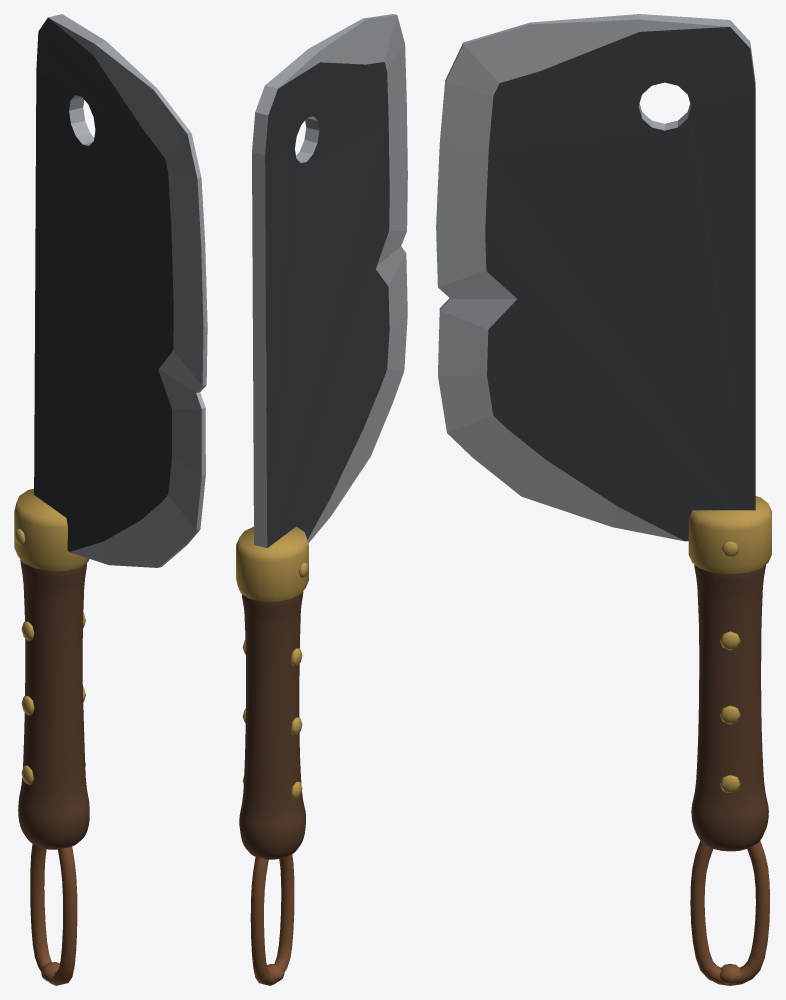
Rendered from tool_cleaver.fbx.
The picture shows the model from 3 angles, left to right: view 1: azimuth 30°, elevation 25°; view 2: azimuth 150°, elevation 25°; view 3: azimuth 270°, elevation 25°; orthographic projection. The views are drawn at different scales.
Parts seen in each view (by area): view 1: Tool_Cleaver_Blade, Tool_Cleaver_Handle, Tool_Cleaver_Bolster, Tool_Cleaver_Thong; view 2: Tool_Cleaver_Blade, Tool_Cleaver_Handle, Tool_Cleaver_Bolster, Tool_Cleaver_Thong; view 3: Tool_Cleaver_Blade, Tool_Cleaver_Handle, Tool_Cleaver_Bolster, Tool_Cleaver_Thong.
Boxes of the visible parts, <box> form: Tool_Cleaver_Blade: <box>34,14,207,567</box>; Tool_Cleaver_Handle: <box>18,559,89,849</box>; Tool_Cleaver_Bolster: <box>14,488,89,784</box>; Tool_Cleaver_Thong: <box>30,844,77,985</box>; Tool_Cleaver_Blade: <box>252,14,407,547</box>; Tool_Cleaver_Handle: <box>239,591,305,859</box>; Tool_Cleaver_Bolster: <box>236,526,308,799</box>; Tool_Cleaver_Thong: <box>250,854,294,985</box>; Tool_Cleaver_Blade: <box>436,14,755,541</box>; Tool_Cleaver_Handle: <box>691,564,768,851</box>; Tool_Cleaver_Bolster: <box>688,496,771,792</box>; Tool_Cleaver_Thong: <box>690,841,769,985</box>.
Bounding box in the file's own units: 4.69 × 58.81 × 18.49.
